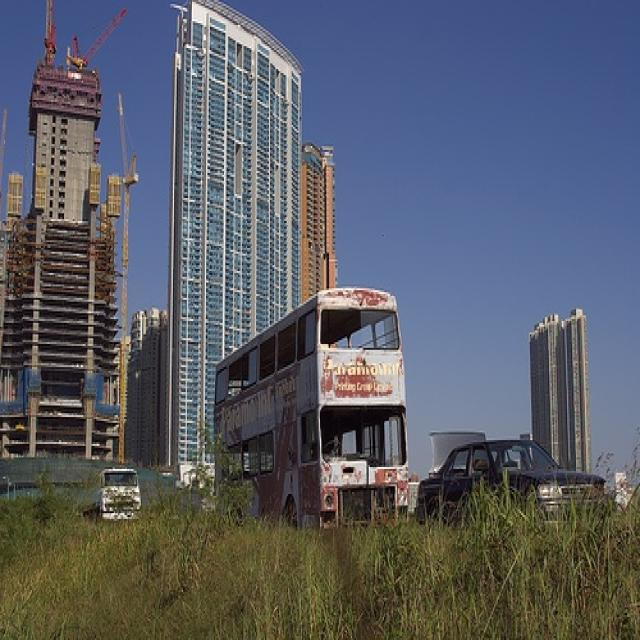bus: (214, 286, 411, 530)
car: (419, 435, 607, 516)
